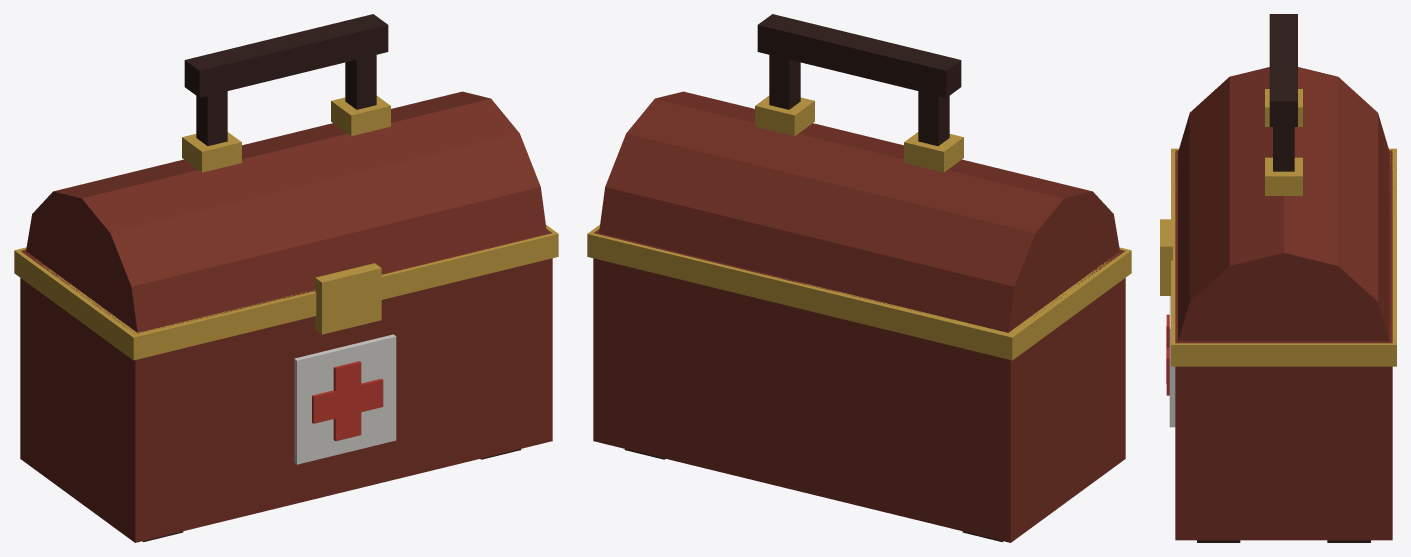
Rendered from doctorBag.glb.
The picture shows the model from 3 angles, left to right: view 1: azimuth 30°, elevation 25°; view 2: azimuth 150°, elevation 25°; view 3: azimuth 270°, elevation 25°; orthographic projection. The views are drawn at different scales.
Visible parts, largest first — view 1: body, lid, clasp, grip, patch, clasp_lock, cross_h, mount_L, mount_R, post_R, post_L, cross_v; view 2: body, lid, clasp, grip, mount_L, mount_R, post_R, post_L; view 3: lid, body, clasp, grip, mount_L, post_L, clasp_lock, patch, mount_R.
Boxes of the visible parts, bbox=[...] form: body: bbox=[20, 229, 552, 542]; lid: bbox=[26, 91, 546, 332]; clasp: bbox=[14, 225, 558, 360]; grip: bbox=[184, 14, 388, 97]; patch: bbox=[294, 334, 396, 464]; clasp_lock: bbox=[315, 263, 381, 334]; cross_h: bbox=[312, 378, 383, 423]; mount_L: bbox=[331, 96, 390, 136]; mount_R: bbox=[182, 132, 241, 172]; post_R: bbox=[196, 91, 227, 145]; post_L: bbox=[345, 55, 376, 109]; cross_v: bbox=[333, 361, 361, 441]; body: bbox=[593, 229, 1125, 542]; lid: bbox=[599, 91, 1119, 332]; clasp: bbox=[587, 225, 1131, 360]; grip: bbox=[757, 14, 961, 97]; mount_L: bbox=[755, 96, 814, 136]; mount_R: bbox=[904, 132, 963, 172]; post_R: bbox=[918, 91, 949, 145]; post_L: bbox=[769, 55, 800, 109]; lid: bbox=[1178, 67, 1389, 341]; body: bbox=[1175, 150, 1392, 540]; clasp: bbox=[1171, 148, 1396, 366]; grip: bbox=[1269, 14, 1297, 126]; mount_L: bbox=[1265, 157, 1302, 195]; post_L: bbox=[1273, 127, 1294, 171]; clasp_lock: bbox=[1160, 219, 1172, 295]; patch: bbox=[1169, 296, 1175, 427]; mount_R: bbox=[1265, 89, 1302, 126].
Bounding box in the file's own units: 0.428 × 0.404 × 0.218.
